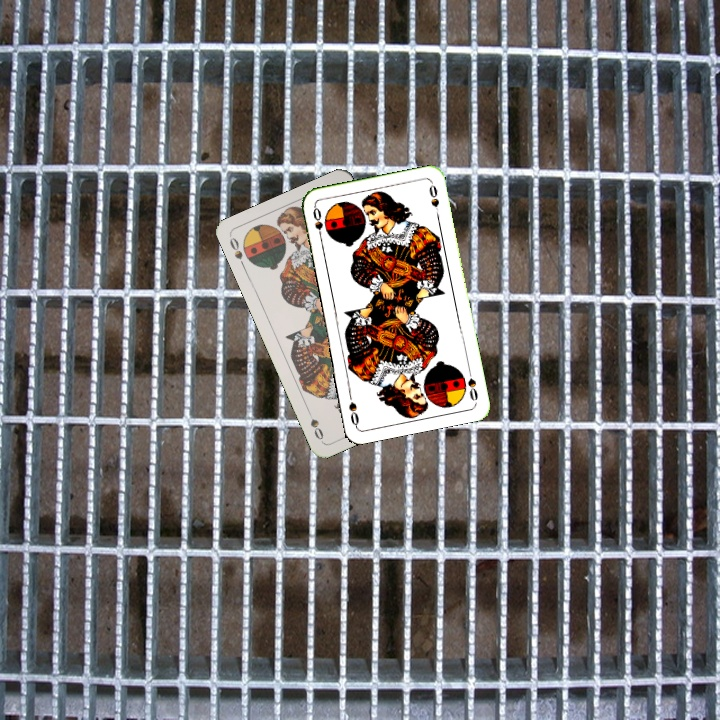SO: (225, 233, 248, 271), (464, 365, 481, 405), (309, 203, 325, 243)
